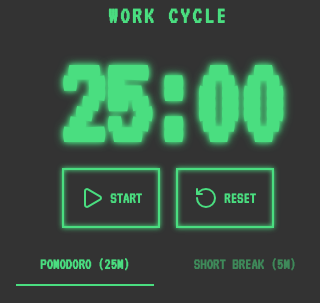
it: Timer › starts and shows PAUSE button
The image size is (320, 303).
Click the button with test id "timer-toggle": (111, 198) [62,168,160,228]
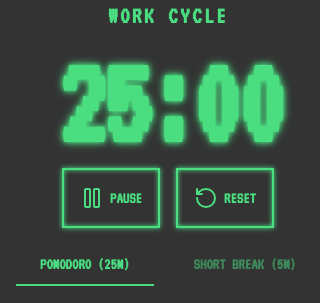
Expected: the button with test id "timer-toggle" reads "PAUSE", [62,168,160,228]
